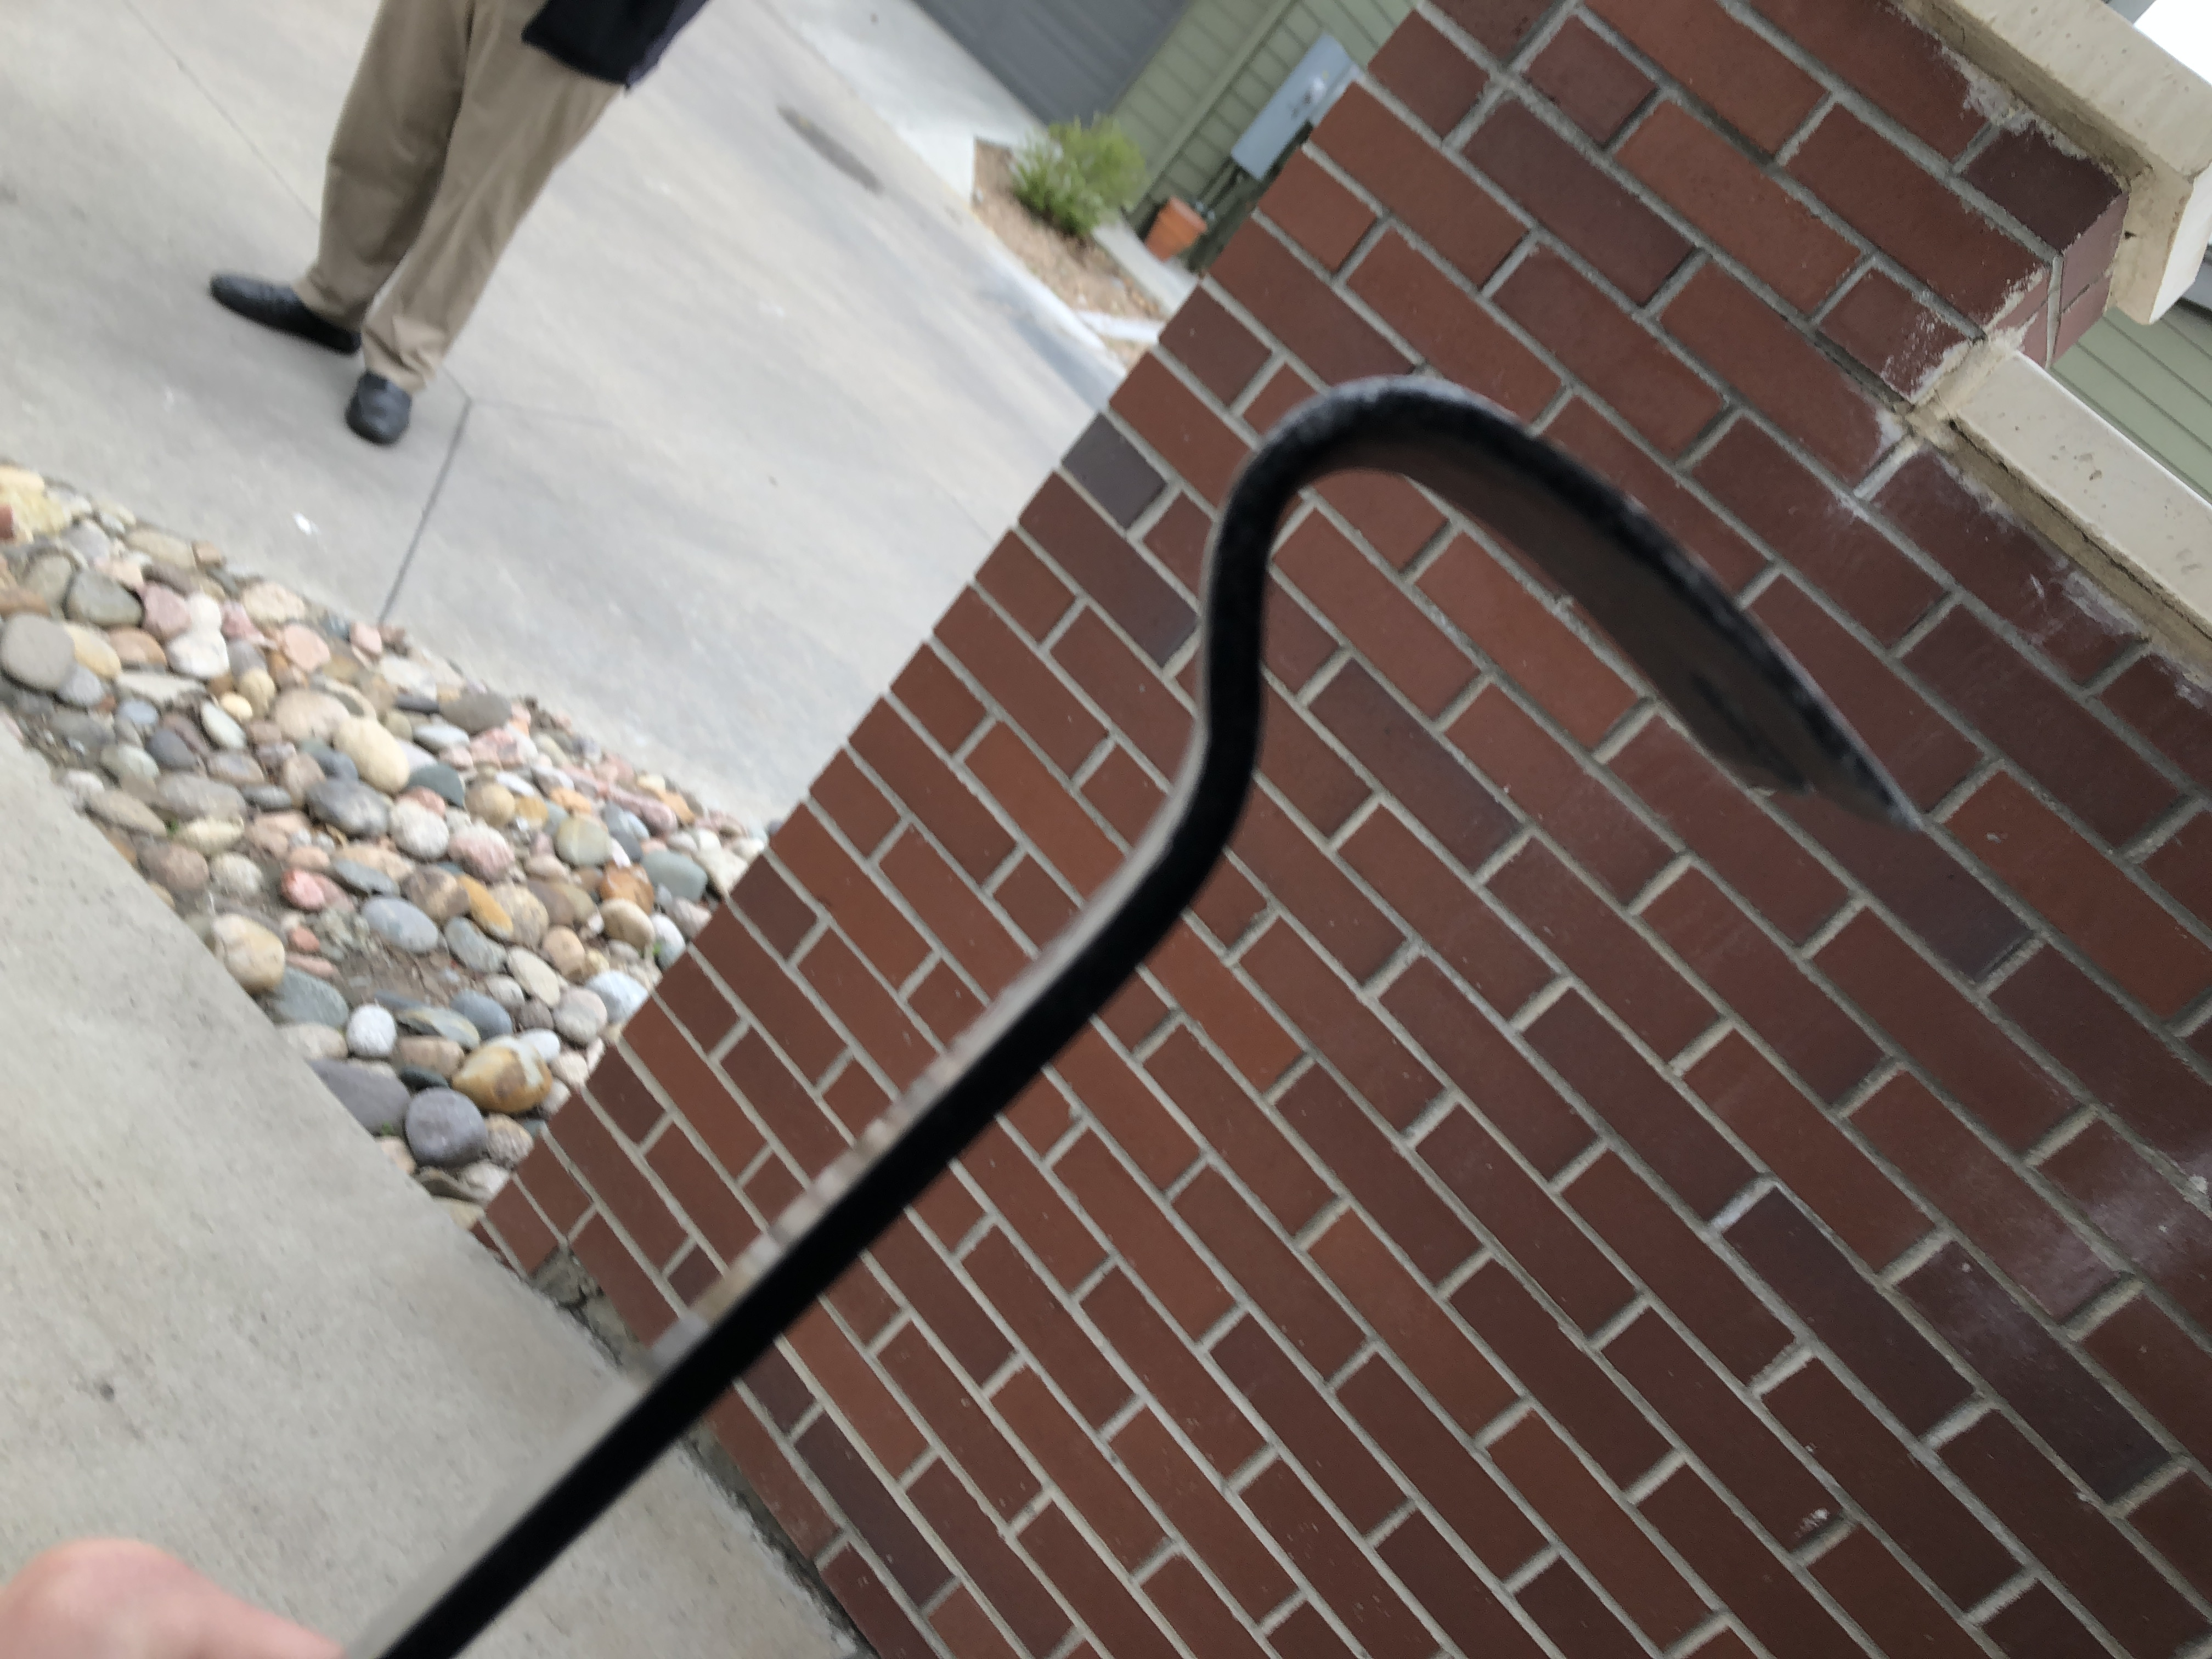crowbar: (462, 298, 1885, 1657)
